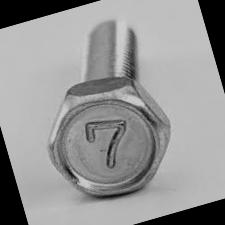hexagonal: (31, 62, 184, 212)
